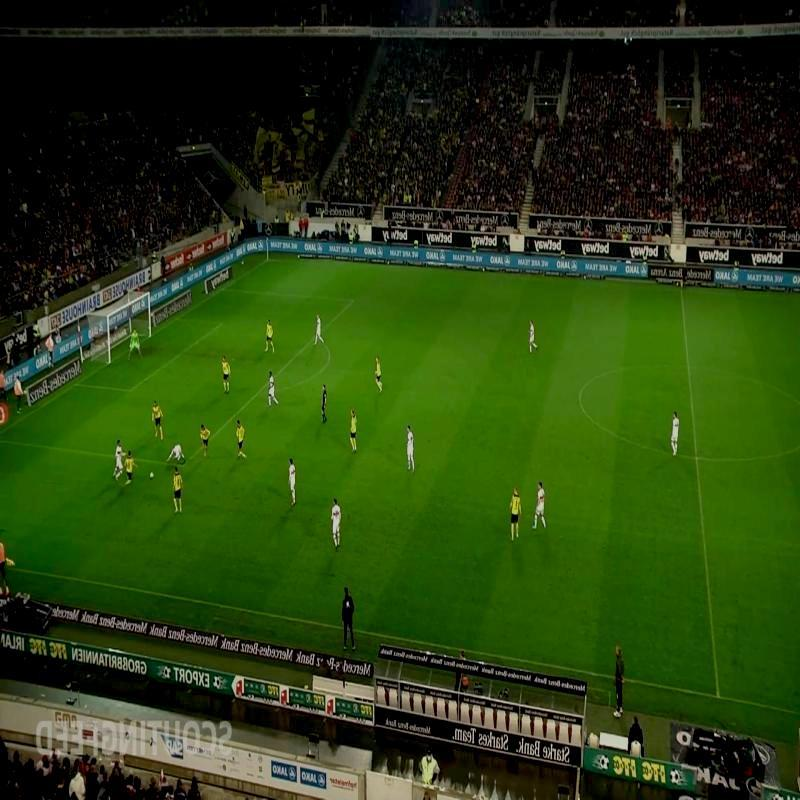1: (261, 252, 275, 266)
10: (307, 330, 321, 344)
11: (256, 382, 270, 396)
12: (176, 457, 190, 471)
13: (674, 280, 688, 298)
14: (680, 360, 696, 374)
15: (688, 448, 706, 468)
16: (709, 687, 726, 706)
2: (216, 280, 230, 294)
3: (170, 310, 184, 324)
4: (70, 376, 84, 390)
7: (215, 316, 229, 330)
8: (122, 382, 136, 395)
9: (346, 292, 360, 306)
c: (572, 390, 586, 404)
